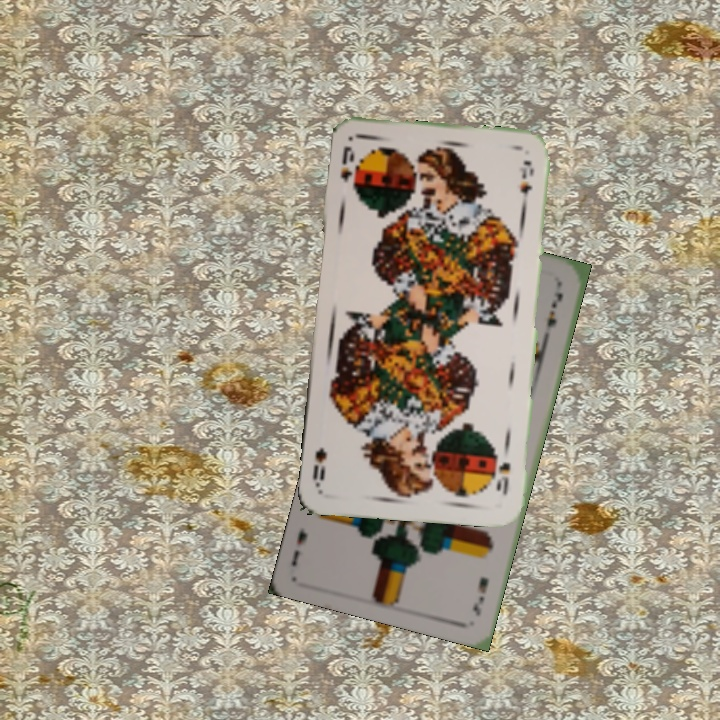E7: (469, 573, 491, 619)
SO: (492, 449, 513, 498), (337, 141, 357, 185)
